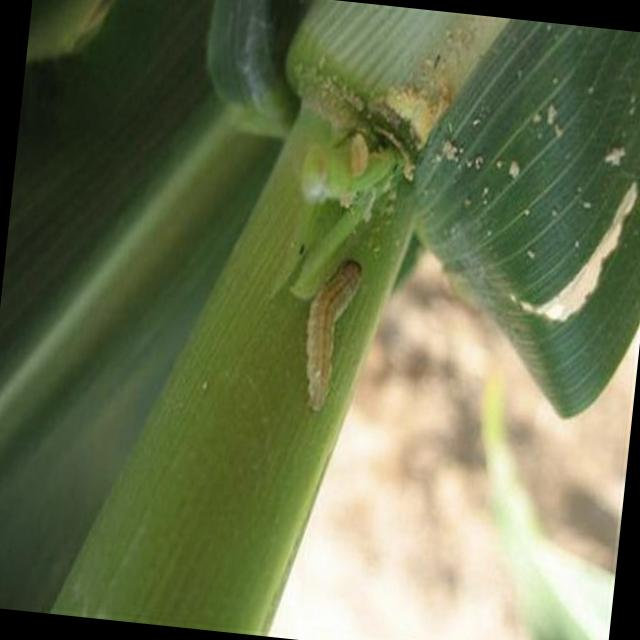pest: (301, 246, 362, 422)
